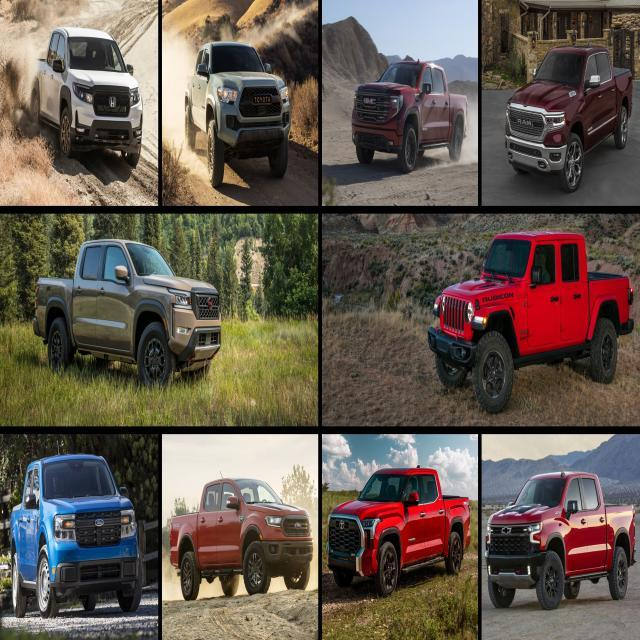person: (428, 230, 634, 413), (32, 237, 222, 391), (10, 452, 144, 618), (485, 470, 636, 610), (504, 43, 633, 192), (327, 464, 471, 597), (169, 474, 313, 600), (30, 25, 144, 168), (184, 39, 292, 187), (351, 58, 468, 173)
